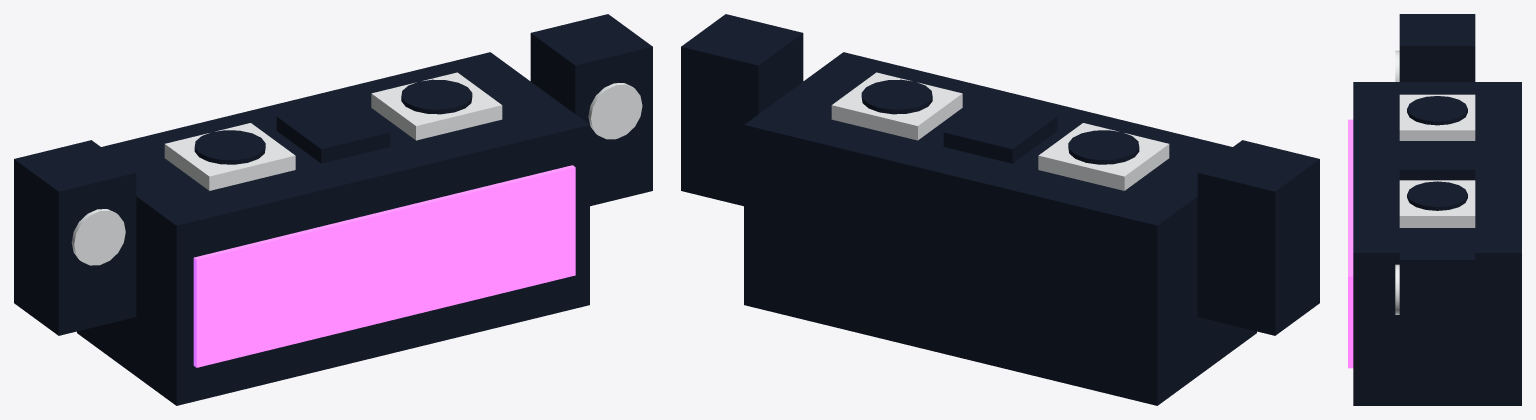
File: interior_dj_booth_rig_01.glb
3 renders of one model, left to right at view 1: azimuth 30°, elevation 25°; view 2: azimuth 150°, elevation 25°; view 3: azimuth 270°, elevation 25°, orthographic. The views are drawn at different scales.
Parts seen in each view (by area): view 1: interior_dj_booth_rig_01; view 2: interior_dj_booth_rig_01; view 3: interior_dj_booth_rig_01.
Part boxes in pixels (x1,y1,x2,y2): interior_dj_booth_rig_01: (14,14,652,405); interior_dj_booth_rig_01: (681,14,1319,405); interior_dj_booth_rig_01: (1348,14,1521,405).
Size of the model in its own units: 3.45 by 1.2 by 1.03.
